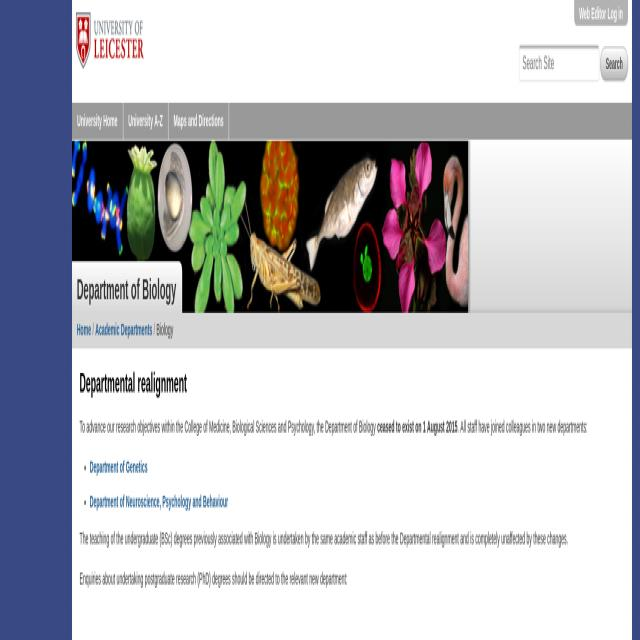button: (76, 12, 144, 68)
field: (519, 44, 599, 82)
